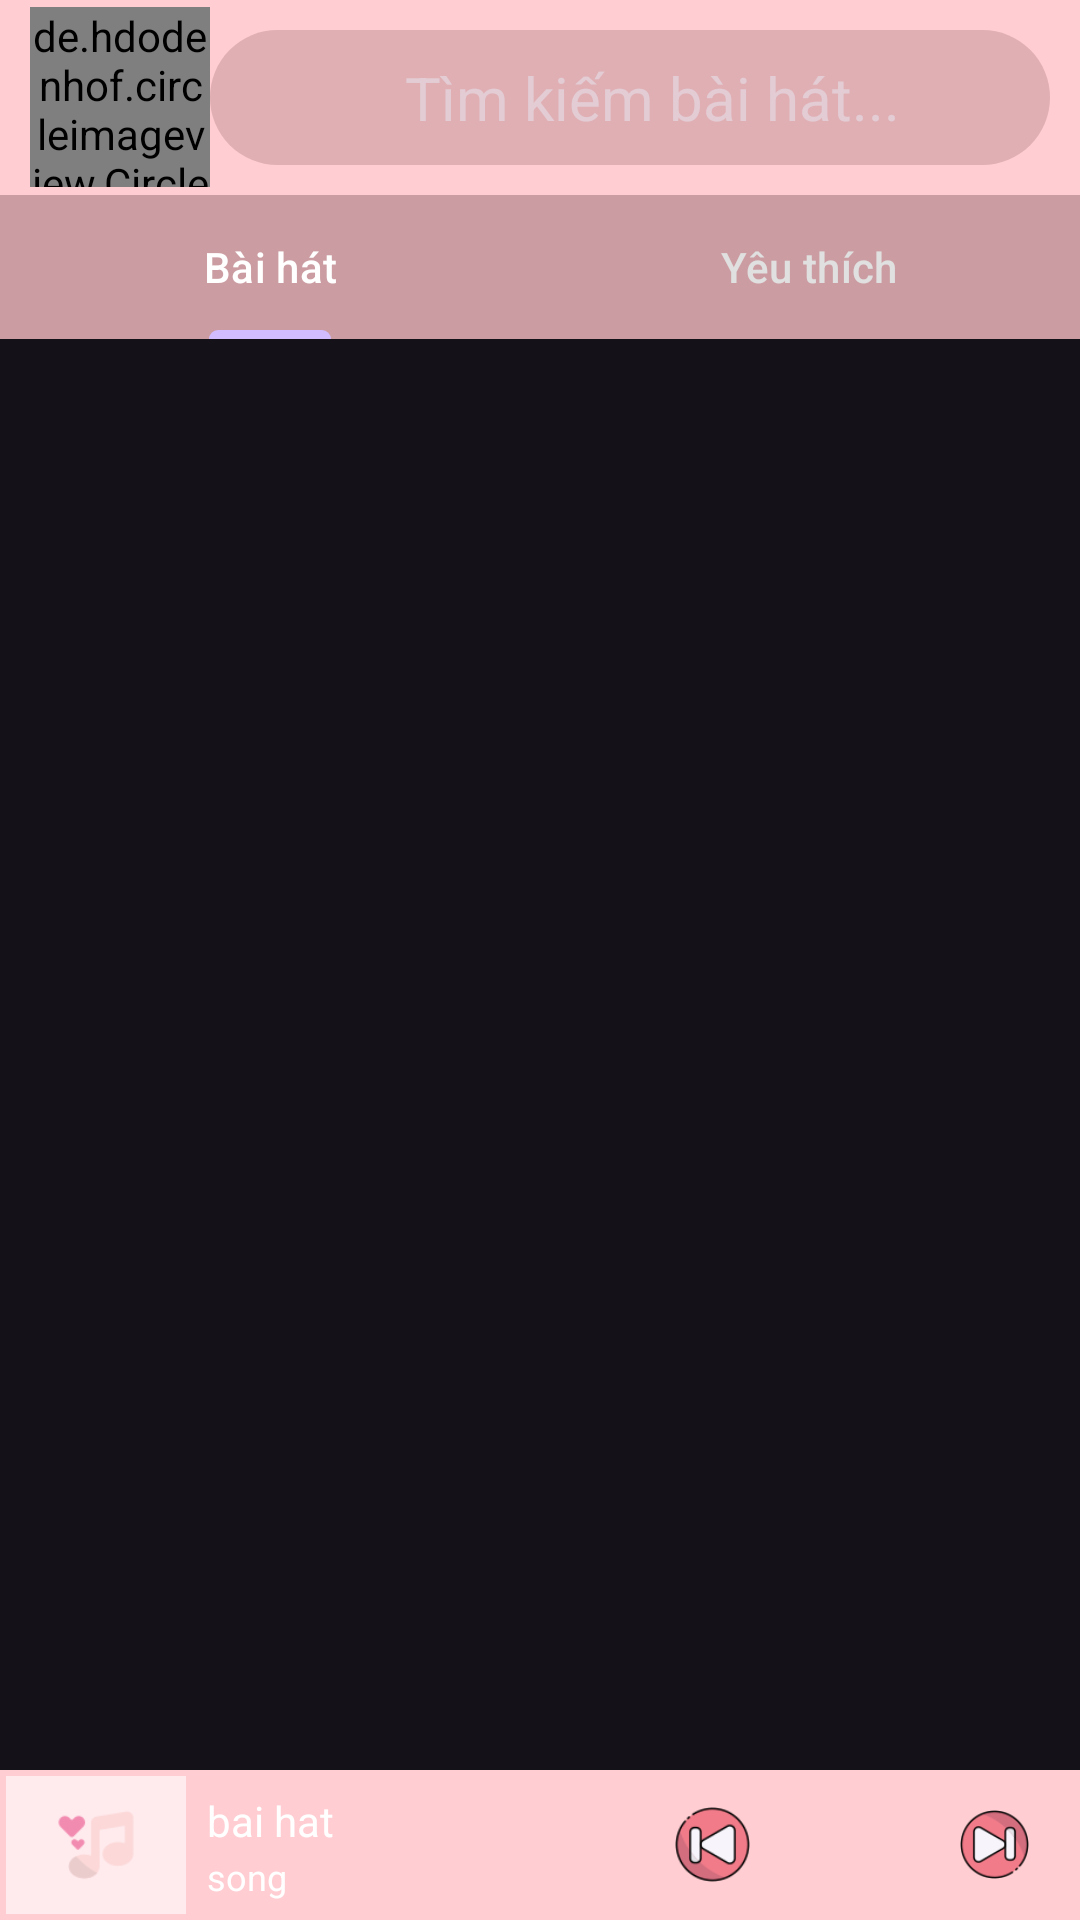

Where to tap for icons on this 1080 × 1920 app screen, as [x,y]:
backt: [712,1844]
nextt: [994,1844]
